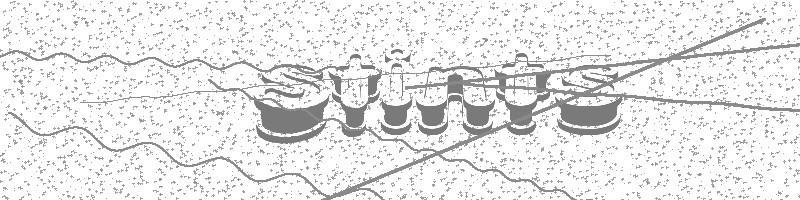i: (381, 49, 411, 135)
n: (417, 67, 495, 136)
s: (255, 64, 328, 144), (557, 65, 622, 135)
t: (495, 53, 550, 136), (330, 54, 381, 136)
